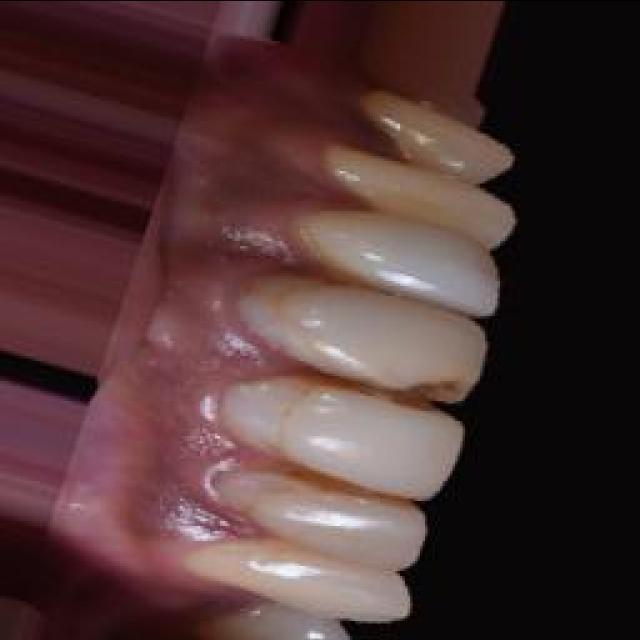decay: (285, 465, 423, 510), (315, 368, 463, 408)
